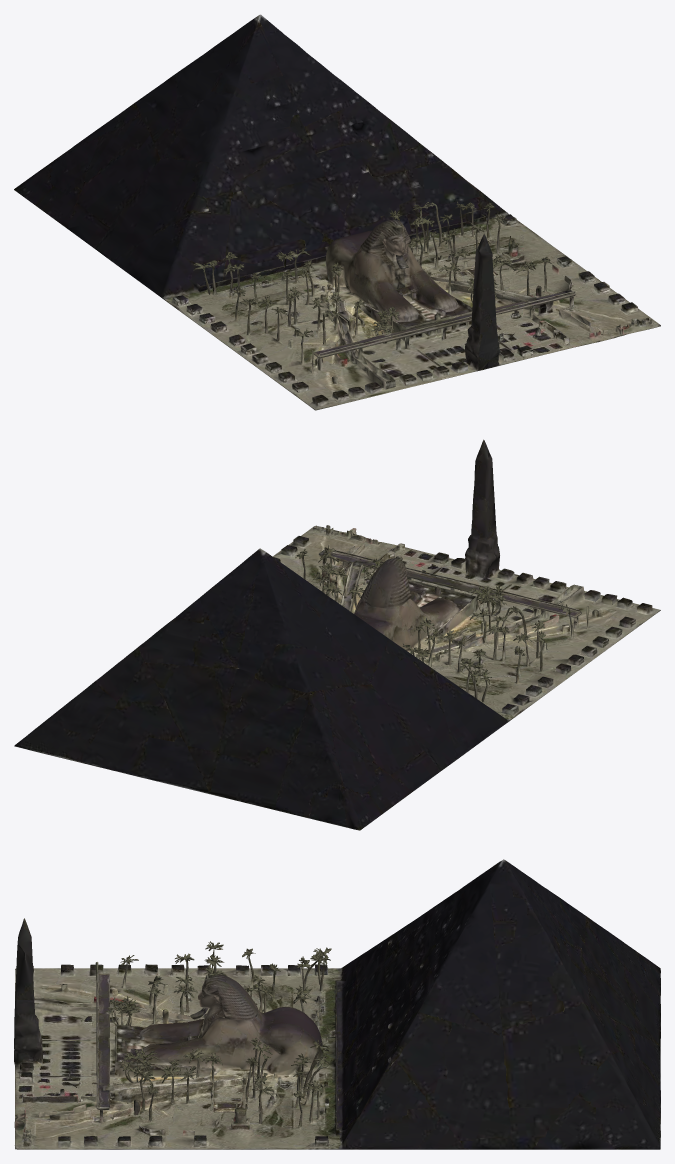
Rendered from luxor.glb.
3 renders of one model, top to bottom at view 1: azimuth 30°, elevation 25°; view 2: azimuth 150°, elevation 25°; view 3: azimuth 270°, elevation 25°, orthographic. The views are drawn at different scales.
Size of the model in its own units: 1.25 by 0.6534 by 1.89.
1 material, 1 textured.
